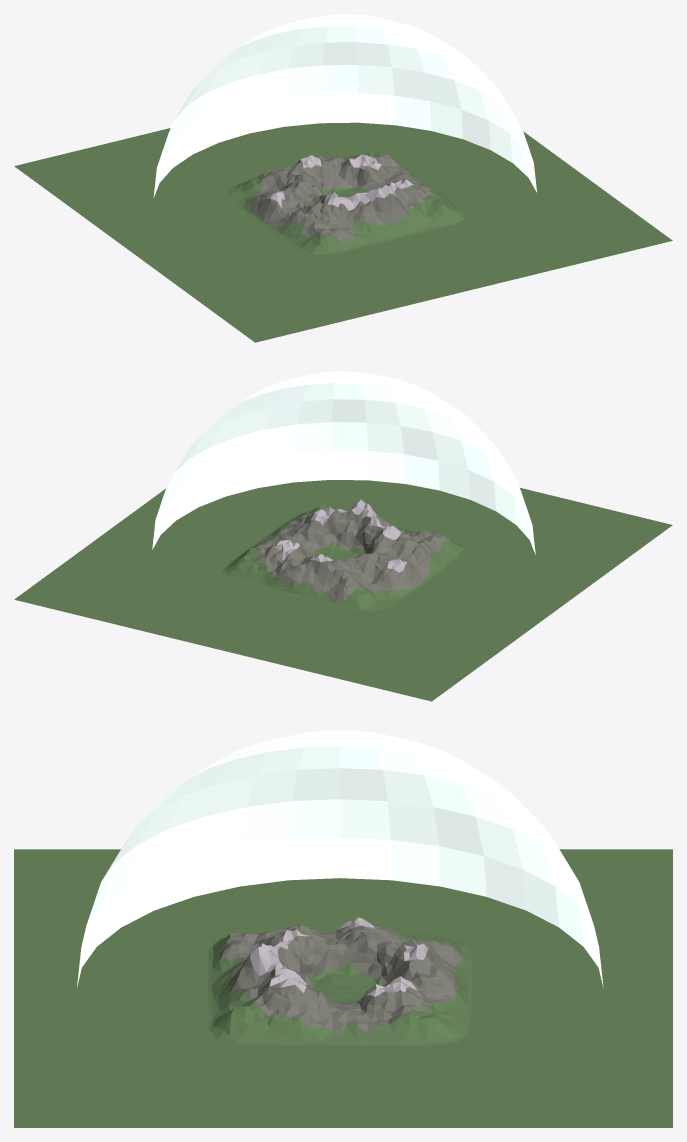
Rendered from valley_lanscape2.glb.
3 views of the same model, one above another, from view 1: azimuth 30°, elevation 25°; view 2: azimuth 150°, elevation 25°; view 3: azimuth 270°, elevation 25° (orthographic). The views are drawn at different scales.
Visible parts, largest first — view 1: Plane, Sphere, Landscape; view 2: Plane, Sphere, Landscape; view 3: Plane, Sphere, Landscape.
Boxes of the visible parts, x1=… form: Plane: x1=14, y1=122, x2=672, y2=342; Sphere: x1=153, y1=14, x2=536, y2=197; Landscape: x1=214, y1=148, x2=476, y2=258; Plane: x1=14, y1=480, x2=672, y2=701; Sphere: x1=152, y1=371, x2=535, y2=554; Landscape: x1=212, y1=499, x2=472, y2=616; Plane: x1=14, y1=849, x2=672, y2=1127; Sphere: x1=77, y1=730, x2=603, y2=988; Landscape: x1=208, y1=917, x2=472, y2=1045.
Bounding box in the file's own units: 12.48 × 5.64 × 12.48.
